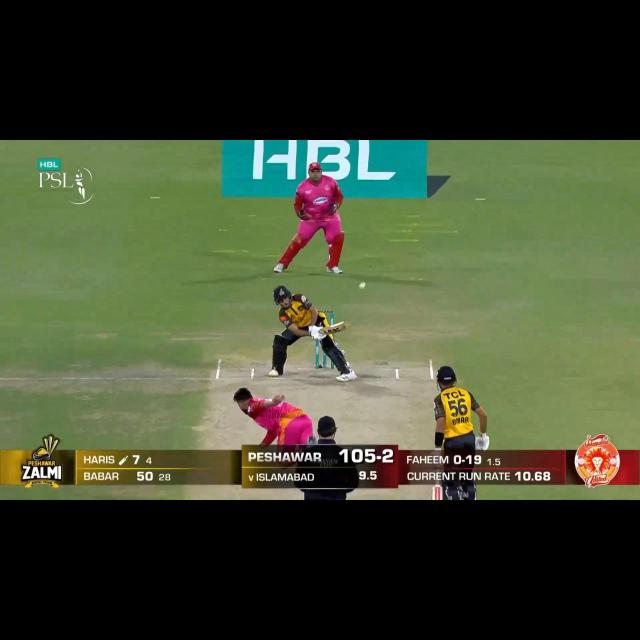bat: (318, 321, 348, 336), (429, 484, 448, 502)
toe: (340, 318, 348, 334)
